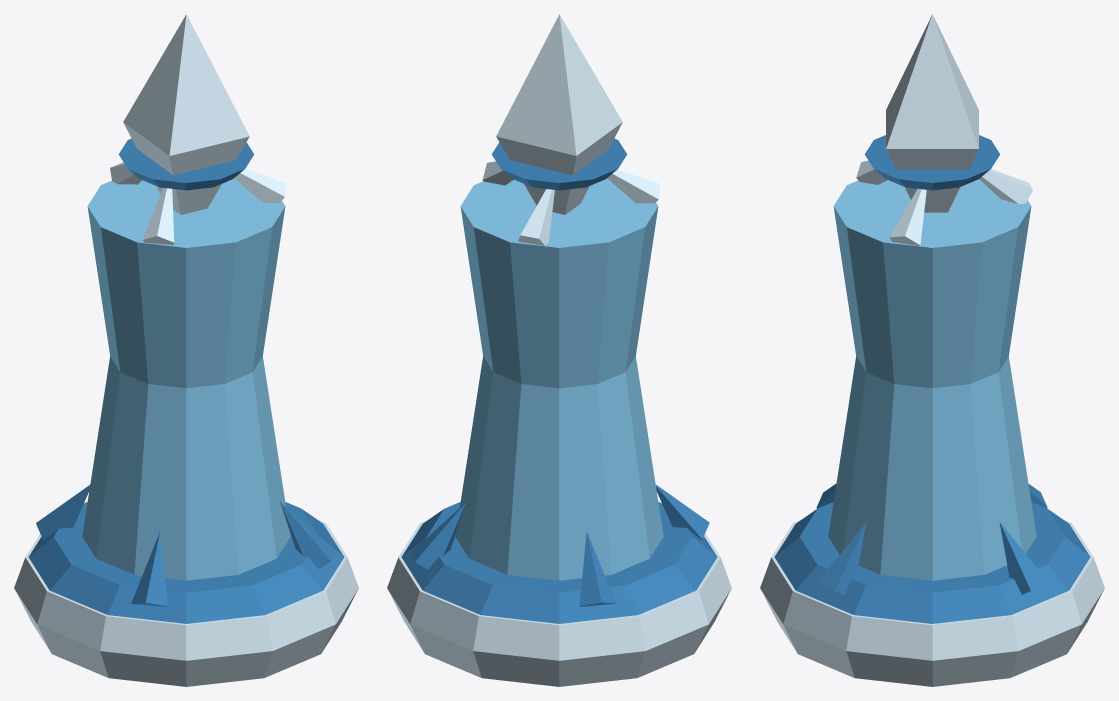
Rendered from tower_frost_l2.glb.
3 views of the same model, side by side, from view 1: azimuth 30°, elevation 25°; view 2: azimuth 150°, elevation 25°; view 3: azimuth 270°, elevation 25° (orthographic).
Visible parts, largest first — view 1: tower_frost_l2; view 2: tower_frost_l2; view 3: tower_frost_l2.
Part boxes in pixels (x1,y1,x2,y2): tower_frost_l2: (14, 14, 358, 686); tower_frost_l2: (387, 14, 731, 686); tower_frost_l2: (760, 14, 1104, 686).
Size of the model in its own units: 0.61 by 1.18 by 0.61.
